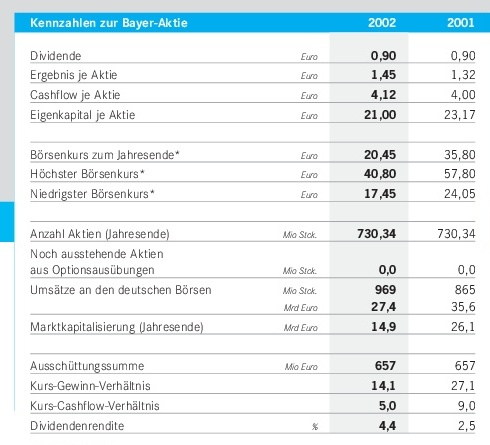table: (0, 0, 490, 445)
